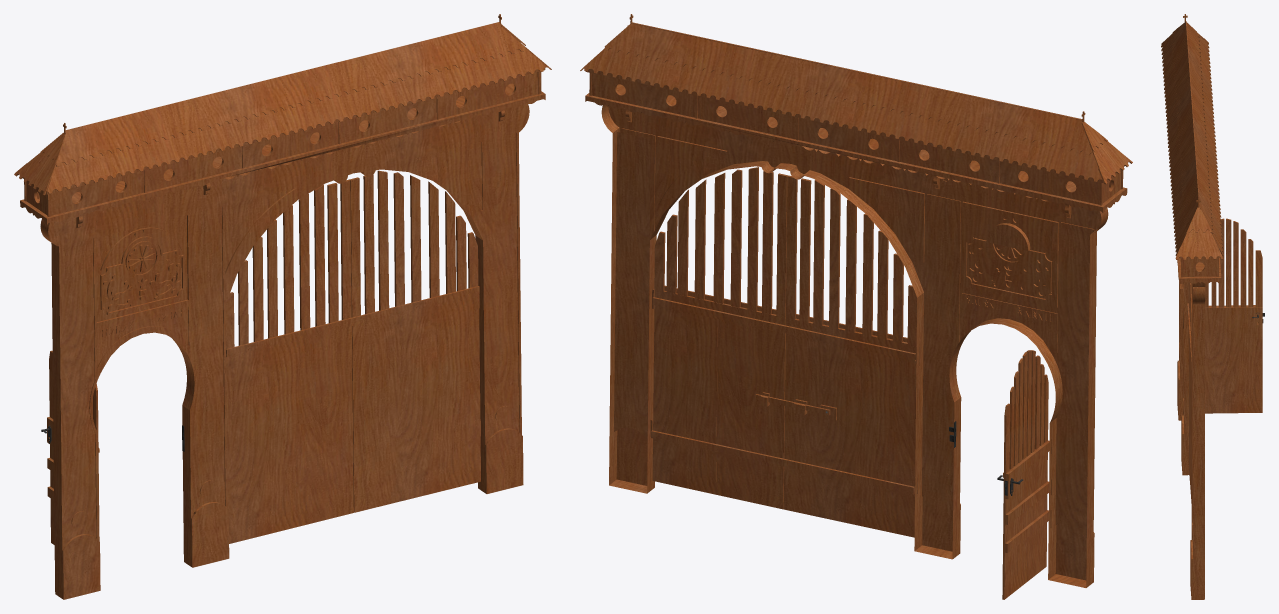
File: szekelykapu_modell.glb
The picture shows the model from 3 angles, left to right: view 1: azimuth 30°, elevation 25°; view 2: azimuth 150°, elevation 25°; view 3: azimuth 270°, elevation 25°; orthographic projection. The views are drawn at different scales.
Visible parts, largest first — view 1: Object_8, Object_5, Object_9, Object_7; view 2: Object_8, Object_5, Object_9, Object_7; view 3: Object_8, Object_5, Object_9.
Boxes of the visible parts, bbox=[...] form: Object_8: bbox=[20, 22, 547, 599]; Object_5: bbox=[40, 215, 217, 599]; Object_9: bbox=[14, 14, 551, 423]; Object_7: bbox=[28, 23, 501, 195]; Object_8: bbox=[583, 23, 1127, 599]; Object_5: bbox=[932, 201, 1108, 599]; Object_9: bbox=[580, 14, 1115, 184]; Object_7: bbox=[604, 44, 1132, 173]; Object_8: bbox=[1161, 21, 1262, 599]; Object_5: bbox=[1177, 282, 1262, 419]; Object_9: bbox=[1175, 21, 1223, 538].
Bounding box in the file's own units: 6.15 × 5.41 × 1.28.
Materials: 4 (4 with a texture image).
